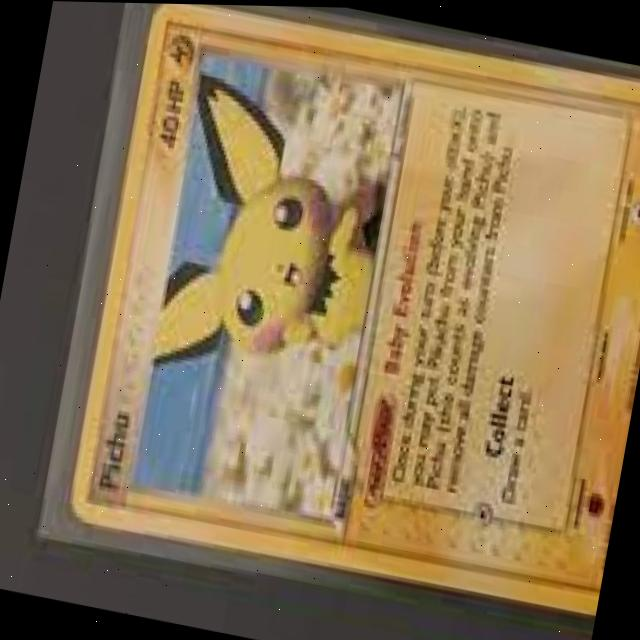pichu: (106, 22, 386, 419)
